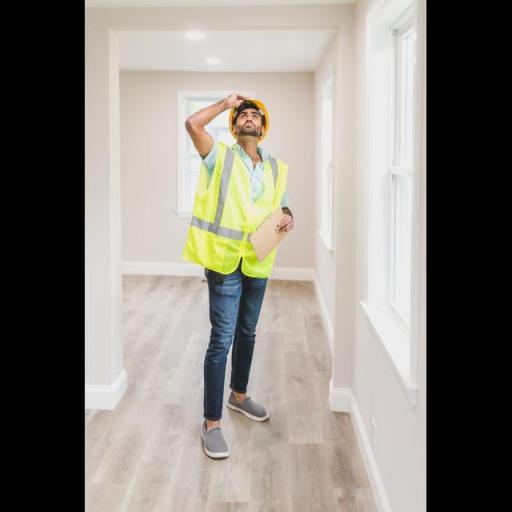Person: (160, 41, 312, 476)
helmet: (221, 94, 268, 140)
vest: (193, 140, 289, 286)
